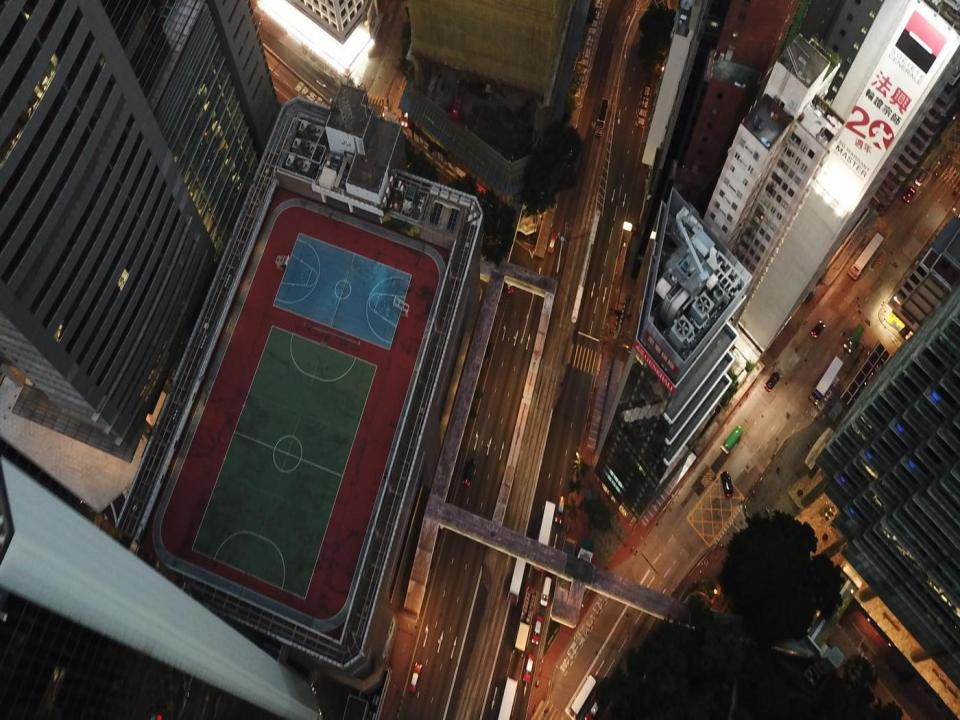bus: (847, 231, 884, 280), (809, 356, 844, 406), (532, 500, 555, 571), (514, 587, 538, 652), (507, 540, 527, 605), (490, 677, 518, 719), (570, 674, 596, 714), (595, 98, 609, 135)
car: (408, 664, 422, 692), (462, 460, 476, 487), (579, 703, 600, 719), (764, 373, 780, 392), (554, 496, 565, 523), (810, 321, 826, 339), (904, 185, 917, 202), (914, 170, 928, 185), (547, 233, 558, 252), (504, 273, 513, 293)
truck: (843, 323, 865, 352), (720, 426, 743, 453)
van: (522, 654, 535, 682), (720, 472, 734, 496), (540, 576, 551, 606), (532, 615, 543, 643)
